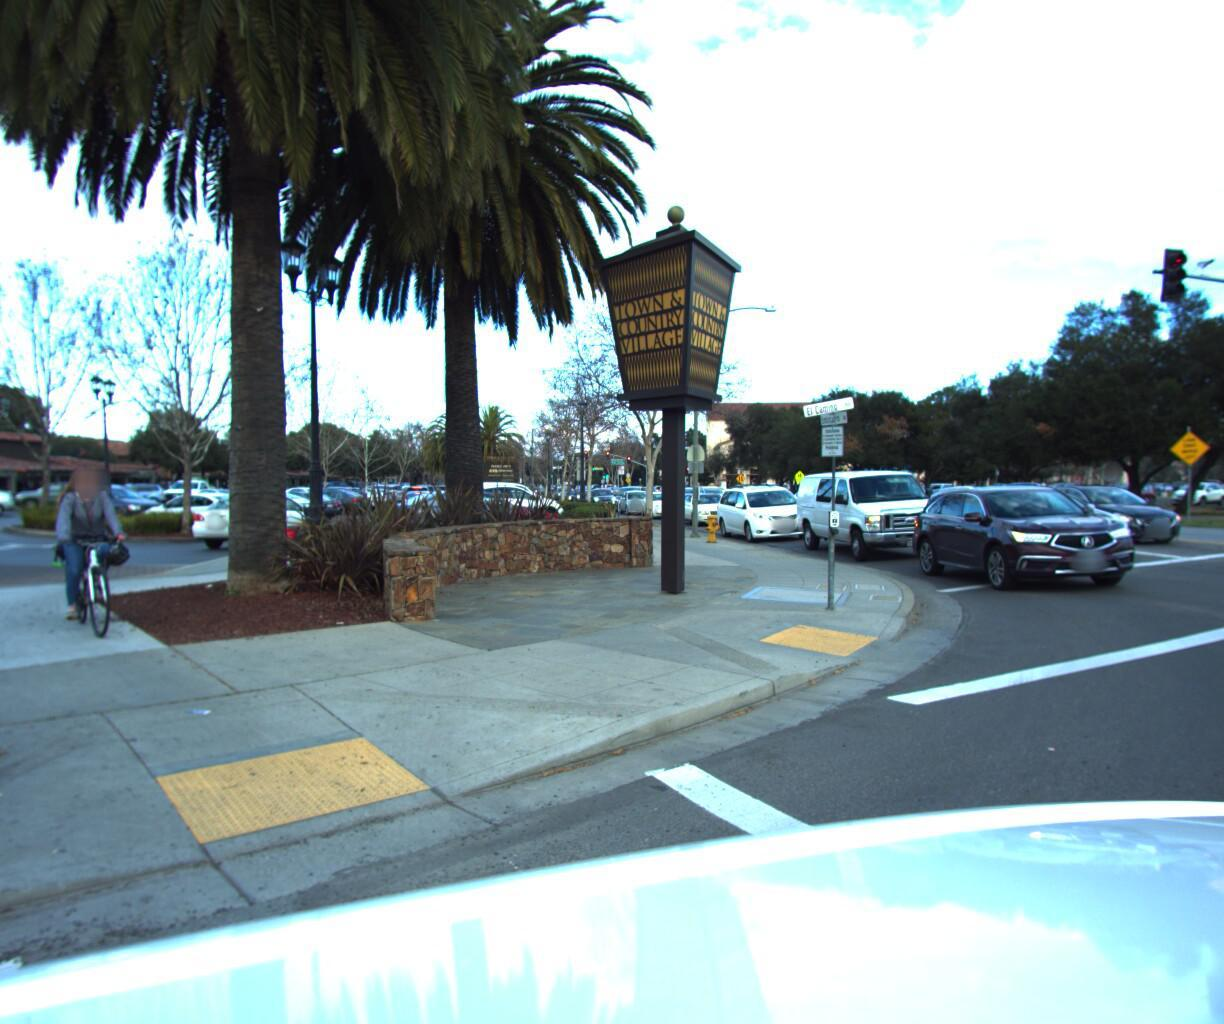bicycle: (17, 464, 156, 651)
car: (898, 475, 1177, 596), (789, 461, 965, 561), (945, 481, 1160, 557), (1014, 477, 1213, 541), (708, 478, 827, 542), (909, 479, 1048, 527), (441, 478, 573, 527), (670, 488, 753, 525), (464, 477, 555, 509), (639, 485, 695, 517), (618, 485, 663, 513), (591, 484, 624, 505)
